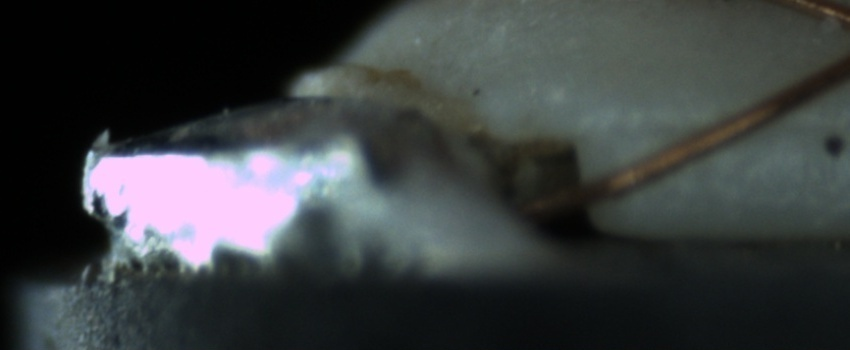DL: (620, 97, 843, 154)
